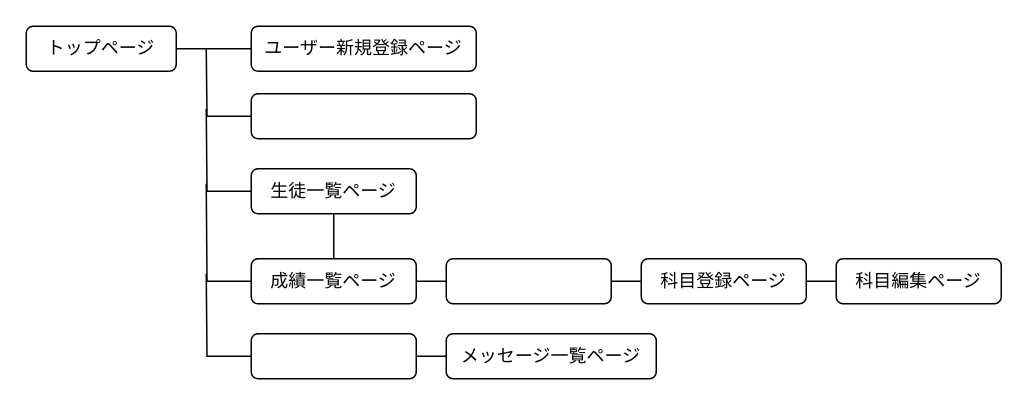
This 1028x405 diagram has some shape labels left out. The centre of each missing label's shape, as x and y in pixels:
"ユーザーログインページ" belongs at [363,115].
"成績詳細ページ" belongs at [528,280].
"質問一覧ページ" belongs at [333,355].
